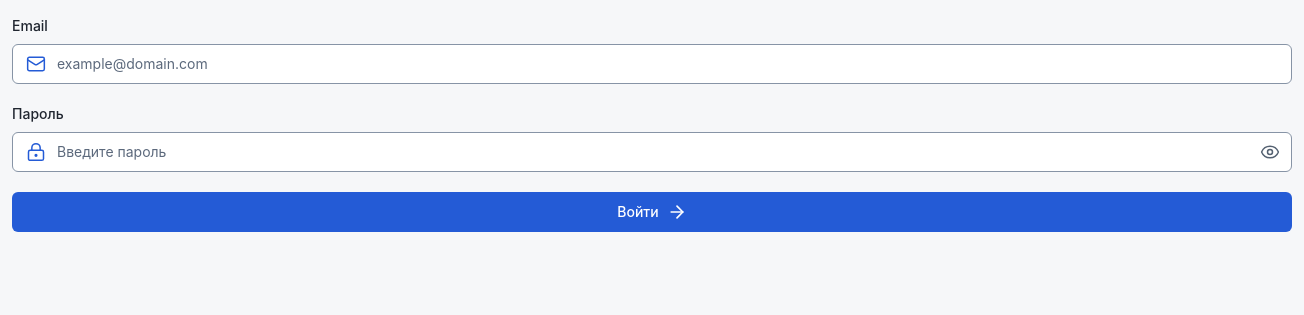
Test: LoginForm › shows invalid credentials from a login 401 without a global redirect
Type "teacher.demo@tutor.local" into the field labelled "Email" at (652, 64), box [12,44,1292,84]
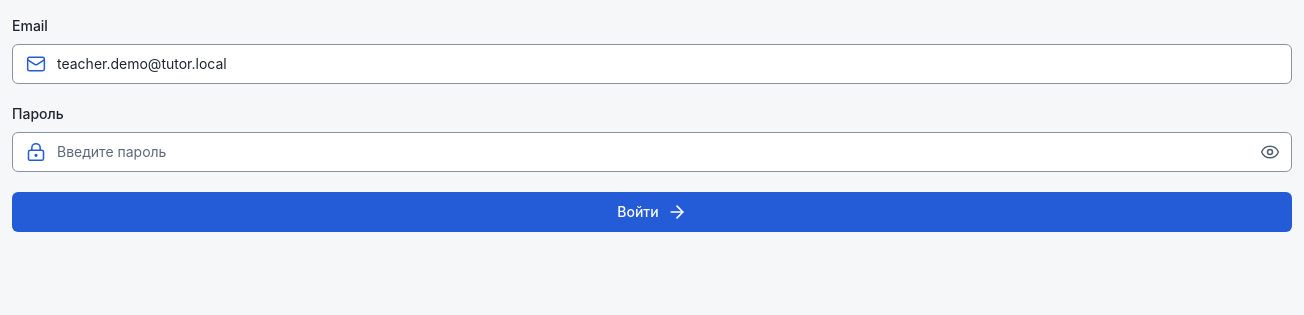
Type "wrong-password" into the password field labelled "Пароль" at (652, 152), box [12,132,1292,172]
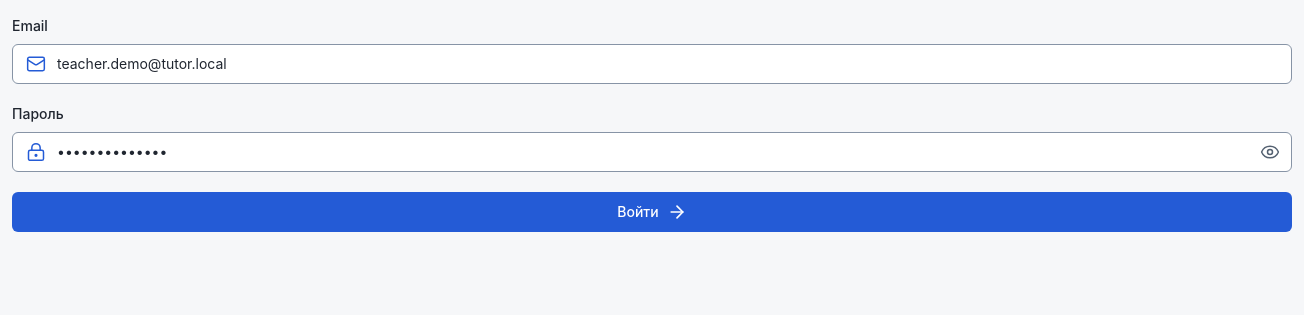
Submit the form "Войти"
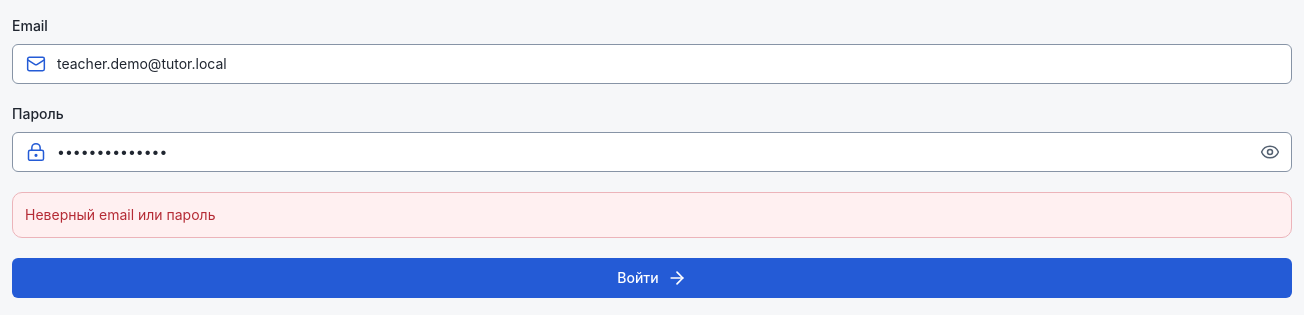
Expected: the message reads "Неверный email или пароль", [25,206,216,223]
